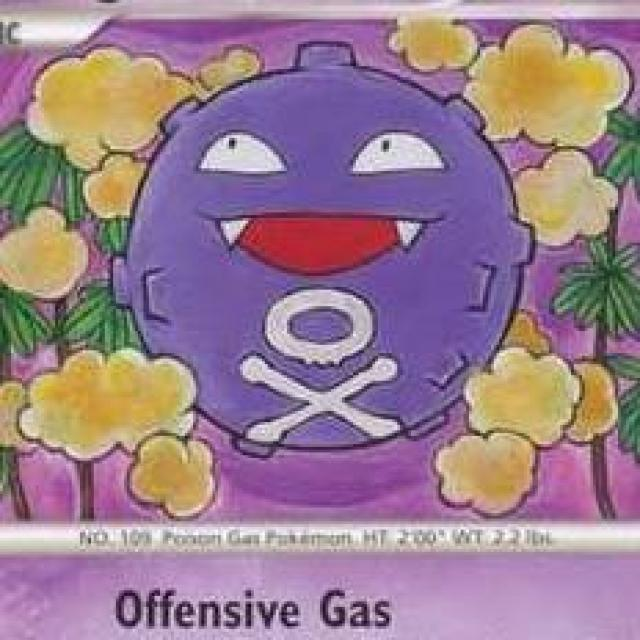Koffing: (115, 31, 536, 465)
